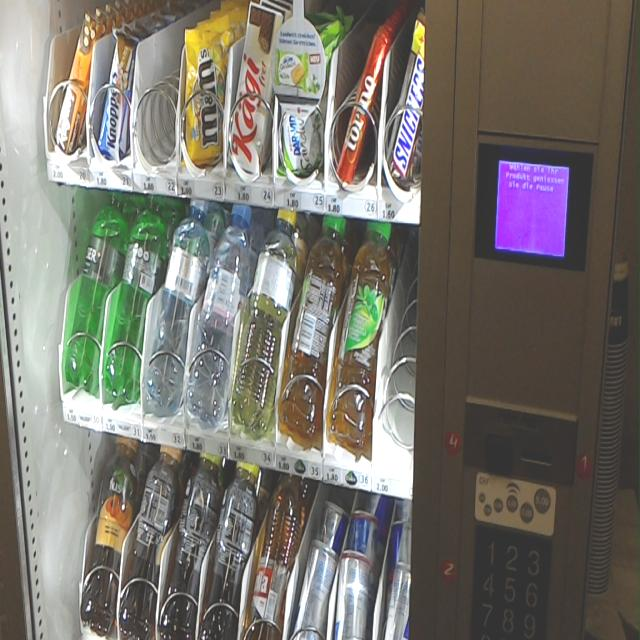darwida_sandwich____7610032065170: (278, 24, 335, 176)
evian___50__3068320353500: (198, 199, 250, 417)
fuse_lemon__50__5449000235947: (172, 454, 219, 632), (211, 461, 255, 637)
fuse_peach__50__5449000236623: (133, 444, 181, 624), (89, 430, 137, 605)
kagi___50__7610046000259: (227, 5, 281, 166)
knoppers_riegel____4035800488808: (95, 31, 138, 158)
mnms_gelb__45__40111445: (182, 26, 228, 168)
ragusa___50__76401121: (48, 17, 100, 154)
redbull___33__90162909: (294, 543, 331, 638), (351, 508, 379, 620), (338, 550, 371, 639), (388, 521, 411, 626)
rivella_rot__50__7610097111072: (249, 474, 294, 636)
snickers___50__5000159461122: (383, 24, 426, 183)
torino___46__76415272: (333, 37, 387, 182)
valser_classic__50__76404160: (119, 188, 166, 398), (78, 192, 126, 388)
valser_still__50__7610335002575: (159, 195, 209, 409)
valser_vivabirne__50__7610335001530: (240, 207, 296, 436)
volvic_teeminze__50__3057640335648: (289, 220, 346, 431), (338, 227, 389, 440)
